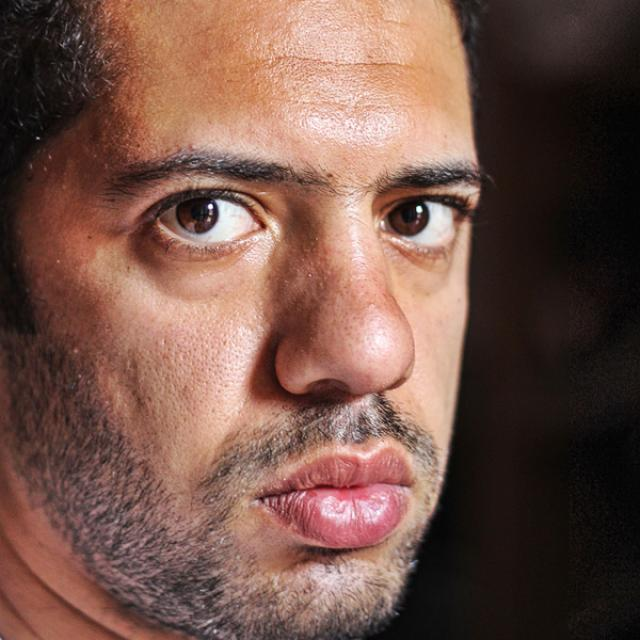face: (2, 3, 492, 640)
